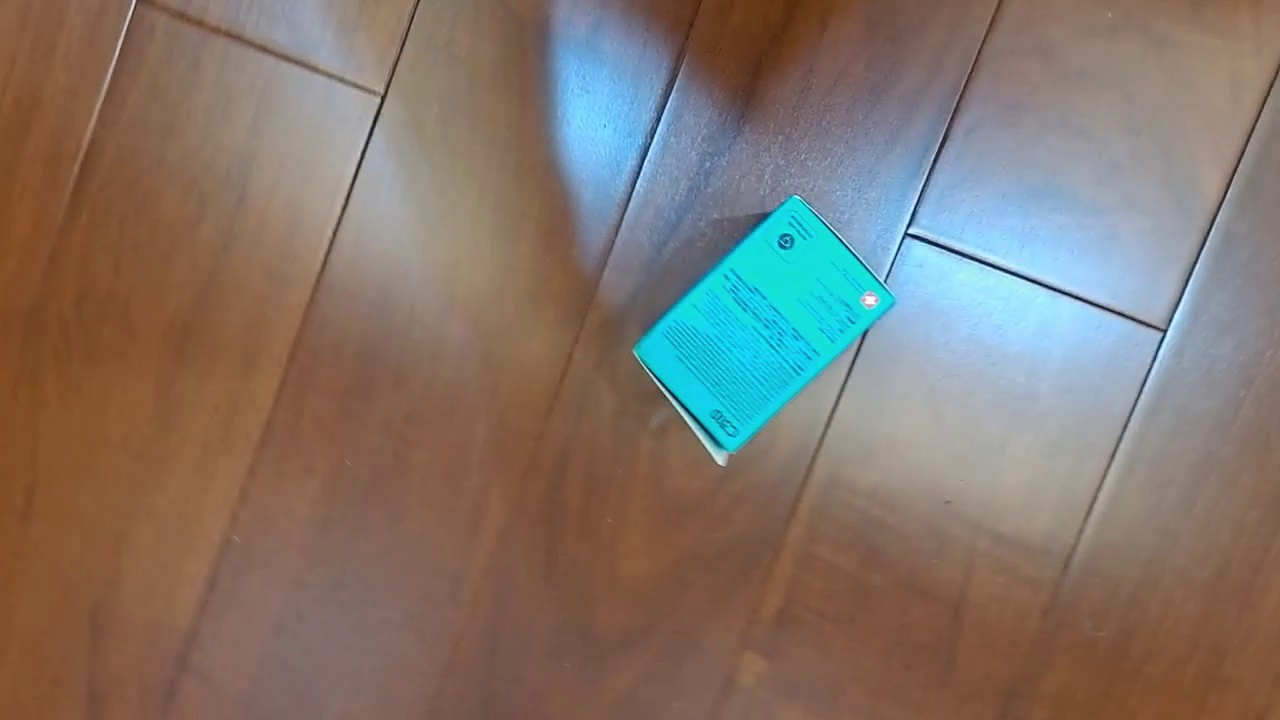webcam: (631, 194, 898, 468)
